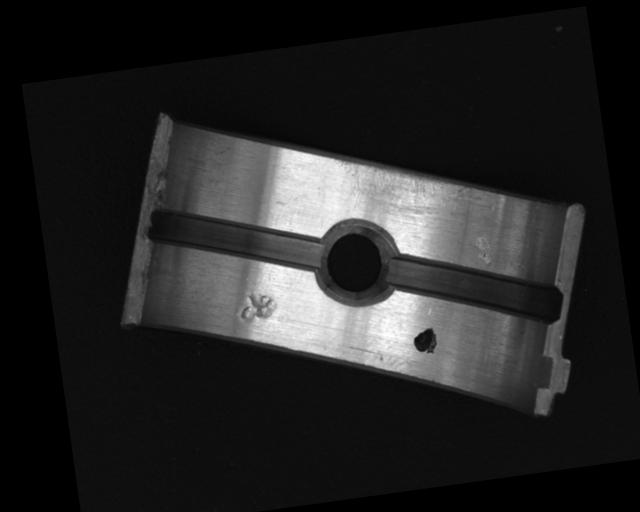blot: (411, 326, 439, 356)
bruise: (236, 289, 279, 325), (472, 232, 494, 267)
gap: (384, 237, 564, 345), (145, 188, 325, 292)
hole: (311, 216, 404, 310)
scratch: (331, 138, 481, 228)
